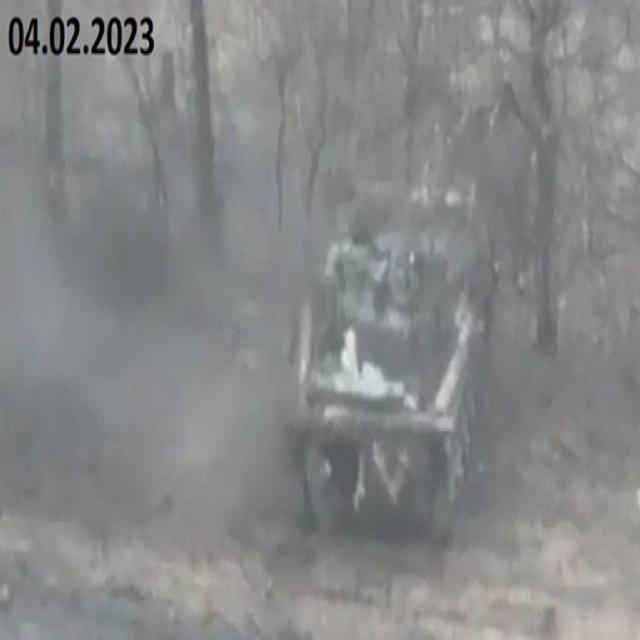APC-IFV: (284, 158, 495, 533)
